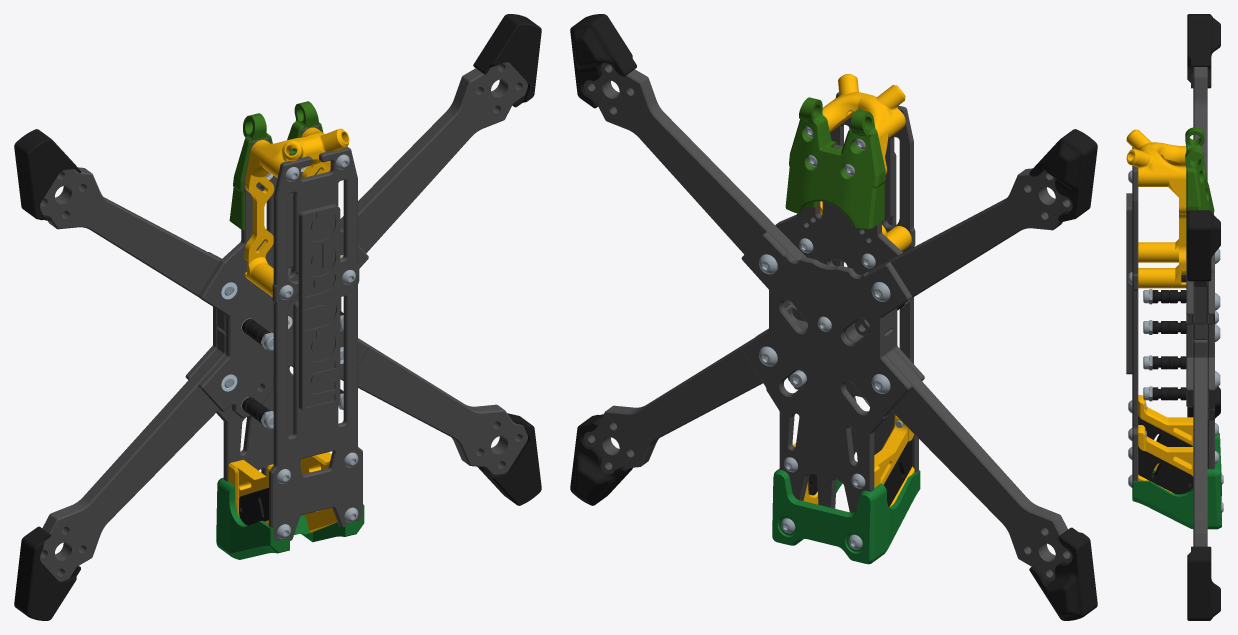
File: openframe-5in.glb
3 renders of one model, left to right at view 1: azimuth 30°, elevation 25°; view 2: azimuth 150°, elevation 25°; view 3: azimuth 270°, elevation 25°, orthographic. The views are drawn at different scales.
Parts seen in each view (by area): view 1: occurrence of Top (1), occurrence of Arm (32), occurrence of Base-Top (13), occurrence of Arm (24), occurrence of anti-slip pad (51), occurrence of Arm (40), occurrence of Arm (17), occurrence of VTX-Mount (20), occurrence of Bumper (14), occurrence of Base-Bot (41), occurrence of Boot-L (16), occurrence of Boot-R (42) (+6 smaller); view 2: occurrence of Base-Bot (41), occurrence of Arm (32), occurrence of Arm (24), occurrence of Airtag/Antenna mount (46), occurrence of Arm (17), occurrence of Arm (40), occurrence of Bumper (14), occurrence of Base-Top (13), occurrence of Top (1), occurrence of VTX-Mount (20), occurrence of Boot-L (16), occurrence of Boot-R (42) (+4 smaller); view 3: occurrence of VTX-Mount (20), occurrence of Arm (17), occurrence of Bumper (14), occurrence of Top (1), occurrence of Boot-R (55), occurrence of Boot-L (70), occurrence of Airtag/Antenna mount (46), occurrence of Boot-R (42), occurrence of Base-Bot (41), occurrence of Cam-Mount-L (36), occurrence of anti-slip pad (51), occurrence of Standoff-L (28) (+14 smaller).
Part boxes in pixels (bbox=[...]): occurrence of Top (1): bbox=[269, 147, 362, 540]; occurrence of Arm (32): bbox=[40, 328, 225, 581]; occurrence of Base-Top (13): bbox=[198, 125, 368, 417]; occurrence of Arm (24): bbox=[288, 62, 527, 273]; occurrence of anti-slip pad (51): bbox=[298, 204, 340, 411]; occurrence of Arm (40): bbox=[40, 167, 225, 332]; occurrence of Arm (17): bbox=[358, 338, 527, 474]; occurrence of VTX-Mount (20): bbox=[244, 127, 349, 296]; occurrence of Bumper (14): bbox=[216, 477, 364, 559]; occurrence of Base-Bot (41): bbox=[185, 252, 300, 481]; occurrence of Boot-L (16): bbox=[14, 526, 80, 620]; occurrence of Boot-R (42): bbox=[14, 129, 80, 221]; occurrence of Base-Bot (41): bbox=[741, 232, 911, 512]; occurrence of Arm (32): bbox=[845, 322, 1072, 581]; occurrence of Arm (24): bbox=[584, 63, 806, 307]; occurrence of Airtag/Antenna mount (46): bbox=[785, 97, 885, 228]; occurrence of Arm (17): bbox=[584, 304, 807, 473]; occurrence of Arm (40): bbox=[861, 168, 1072, 333]; occurrence of Bumper (14): bbox=[772, 468, 920, 564]; occurrence of Base-Top (13): bbox=[756, 133, 924, 406]; occurrence of Top (1): bbox=[830, 92, 918, 472]; occurrence of VTX-Mount (20): bbox=[820, 74, 911, 251]; occurrence of Boot-L (16): bbox=[1029, 527, 1097, 620]; occurrence of Boot-R (42): bbox=[1029, 129, 1097, 222]; occurrence of VTX-Mount (20): bbox=[1126, 129, 1186, 288]; occurrence of Arm (17): bbox=[1193, 339, 1207, 546]; occurrence of Bumper (14): bbox=[1132, 433, 1221, 529]; occurrence of Top (1): bbox=[1132, 147, 1138, 480]; occurrence of Boot-R (55): bbox=[1187, 546, 1220, 620]; occurrence of Boot-L (70): bbox=[1187, 210, 1220, 281]; occurrence of Airtag/Antenna mount (46): bbox=[1185, 127, 1214, 247]; occurrence of Boot-R (42): bbox=[1187, 14, 1220, 88]; occurrence of Base-Bot (41): bbox=[1207, 253, 1214, 469]; occurrence of Cam-Mount-L (36): bbox=[1138, 446, 1193, 494]; occurrence of anti-slip pad (51): bbox=[1126, 193, 1132, 374]; occurrence of Standoff-L (28): bbox=[1138, 425, 1193, 493].
Size of the model in its own units: 0.2101 by 0.1881 by 0.0407.
